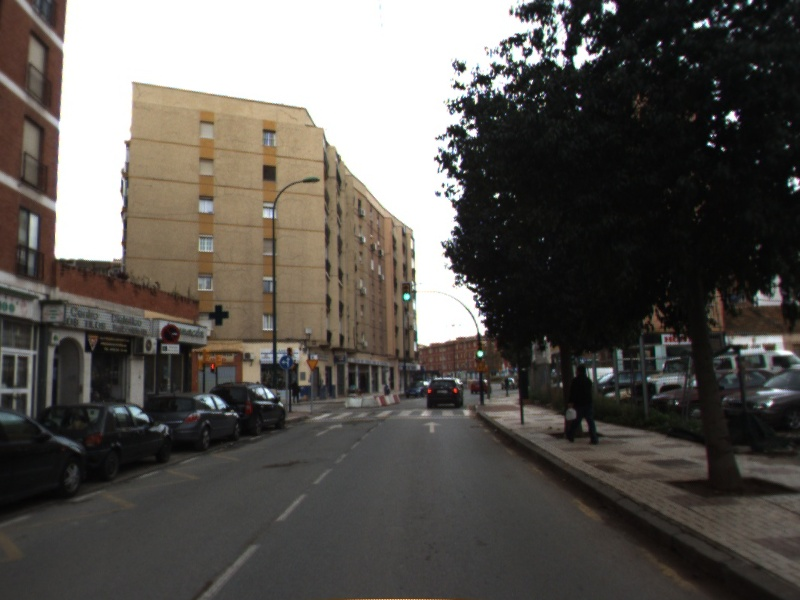STRAIGHT: (313, 421, 345, 439), (420, 419, 444, 435)
